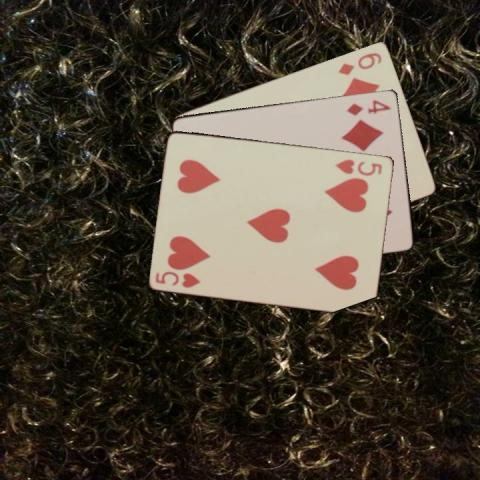4d: (344, 97, 392, 117)
5h: (332, 155, 384, 177), (153, 268, 202, 289)
6d: (335, 49, 384, 77)
